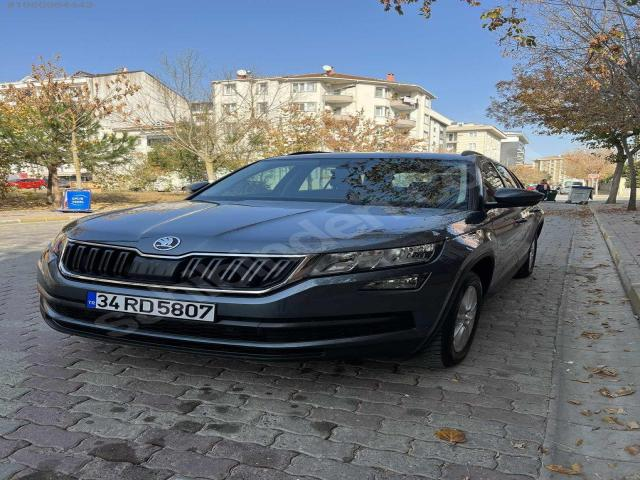plaka: (88, 293, 214, 321)
